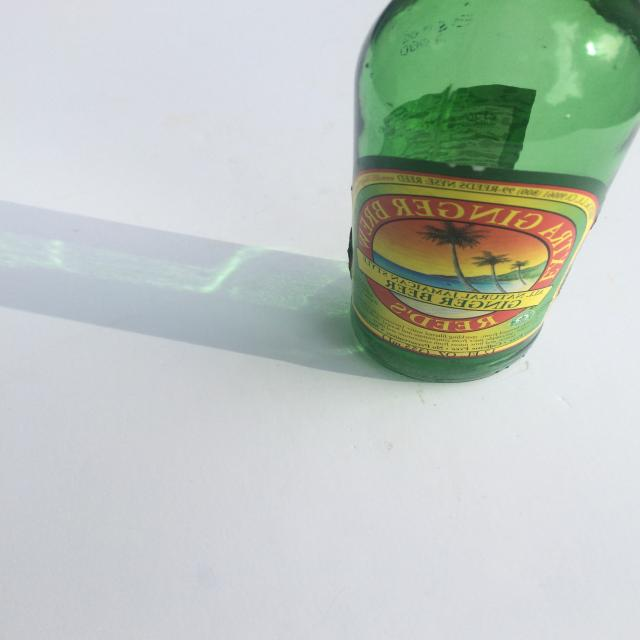glass: (347, 0, 640, 383)
